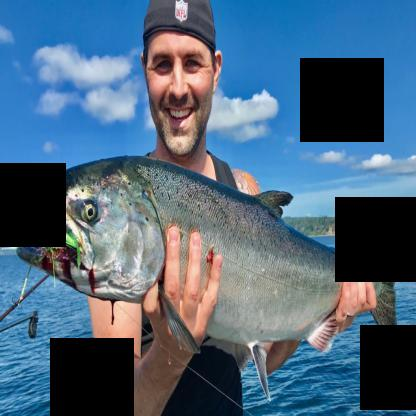fish: (14, 155, 413, 403)
